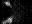person: (3, 17, 12, 23), (4, 1, 11, 7)
